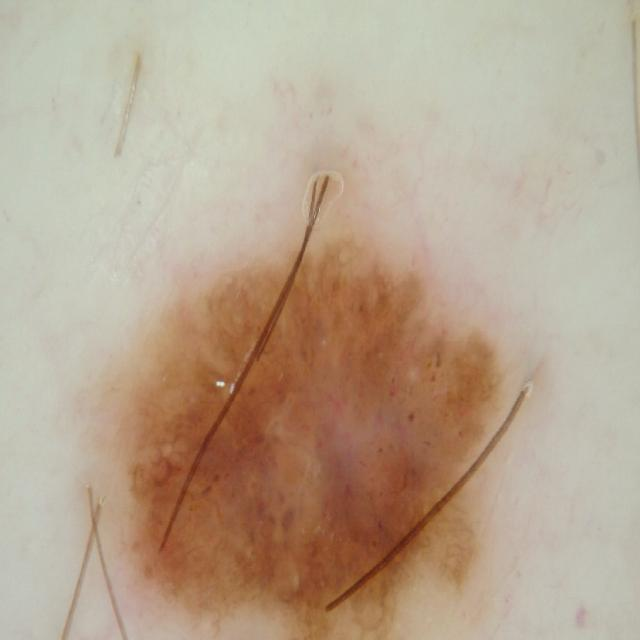Melanoma: (104, 215, 506, 640)
